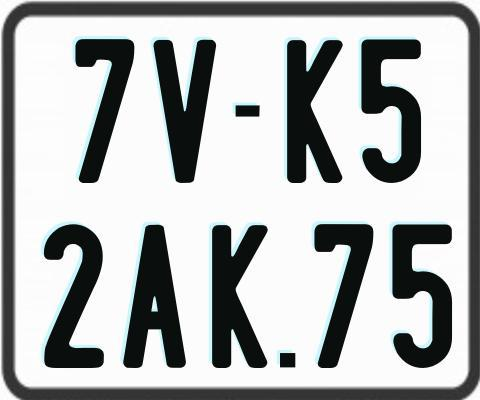2: (44, 224, 109, 370)
5: (391, 223, 457, 373), (360, 36, 422, 186)
7: (313, 221, 373, 367), (73, 38, 132, 184)
A: (123, 222, 186, 371)
K: (211, 223, 267, 372), (285, 37, 341, 183)
V: (154, 40, 219, 185)
